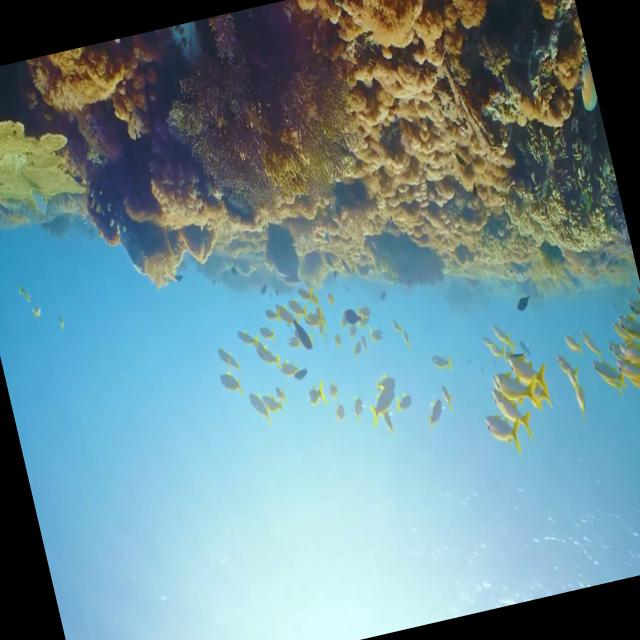fish: (360, 372, 406, 425), (494, 384, 536, 442), (588, 350, 630, 403), (497, 340, 539, 388), (294, 374, 334, 422), (422, 380, 458, 429), (493, 376, 538, 414), (233, 378, 271, 422), (484, 408, 519, 454), (232, 316, 268, 356), (286, 310, 315, 356), (210, 339, 246, 376), (290, 270, 318, 308), (549, 351, 578, 386), (268, 286, 293, 326), (615, 314, 640, 351), (213, 365, 240, 398), (428, 345, 454, 374), (282, 289, 307, 318), (258, 342, 283, 366), (342, 301, 364, 326), (621, 295, 640, 322), (572, 390, 591, 410)
